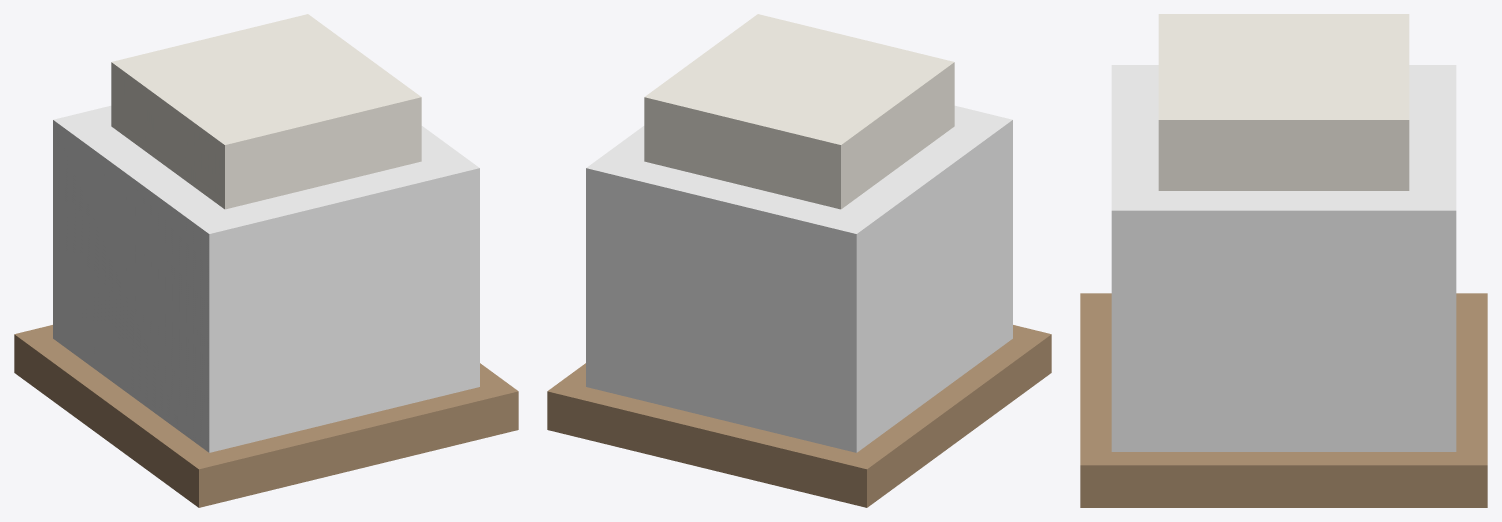
The model's file is Item_DS_Food_GoatMilk.glb.
The picture shows the model from 3 angles, left to right: view 1: azimuth 30°, elevation 25°; view 2: azimuth 150°, elevation 25°; view 3: azimuth 270°, elevation 25°; orthographic projection. The views are drawn at different scales.
Parts seen in each view (by area): view 1: Item_DS_Food_GoatMilk; view 2: Item_DS_Food_GoatMilk; view 3: Item_DS_Food_GoatMilk.
Boxes of the visible parts, left/top/right/bottom form: Item_DS_Food_GoatMilk: left=14, top=14, right=518, bottom=507; Item_DS_Food_GoatMilk: left=547, top=14, right=1051, bottom=507; Item_DS_Food_GoatMilk: left=1080, top=14, right=1487, bottom=507.
Bounding box in the file's own units: 0.26 × 0.25 × 0.26.
